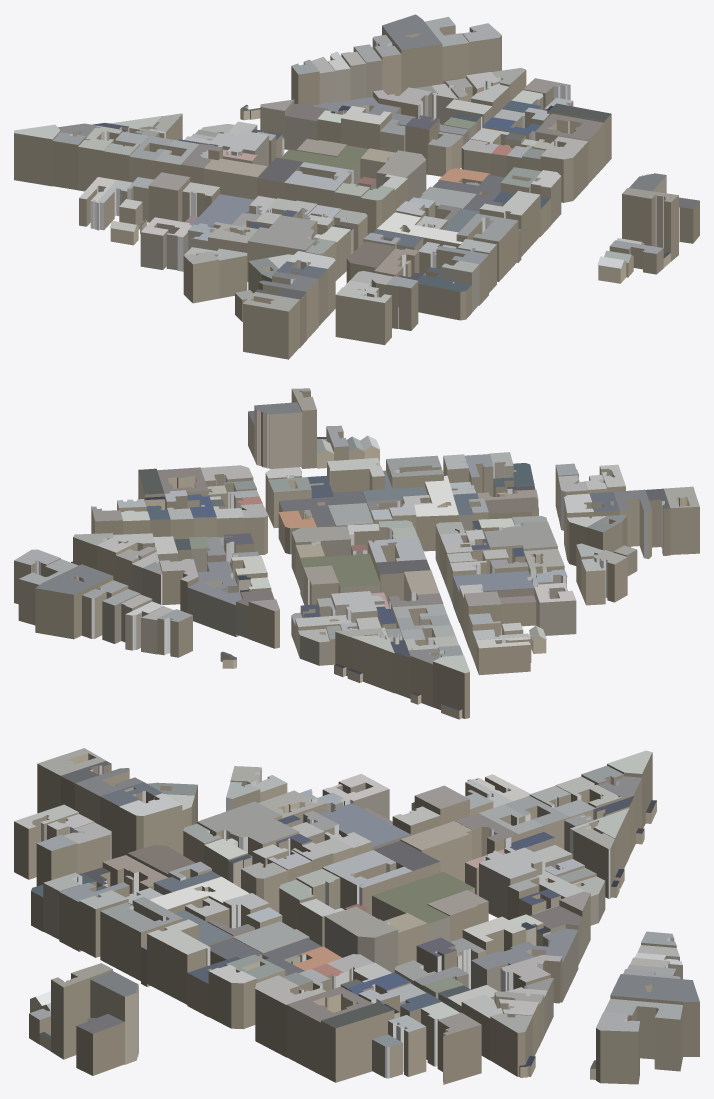
The picture shows the model from 3 angles, top to bottom: view 1: azimuth 30°, elevation 25°; view 2: azimuth 150°, elevation 25°; view 3: azimuth 270°, elevation 25°; orthographic projection. The views are drawn at different scales.
Visible parts, largest first — view 1: tuile; view 2: tuile; view 3: tuile.
Boxes of the visible parts, left/top/right/bottom form: tuile: left=14, top=14, right=699, bottom=359; tuile: left=14, top=388, right=699, bottom=719; tuile: left=14, top=748, right=699, bottom=1084.
Size of the model in its own units: 269 by 33.14 by 277.
